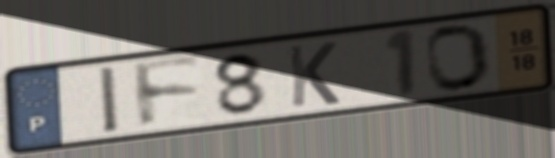1: (381, 26, 417, 103)
8: (212, 50, 273, 118)
F: (129, 54, 206, 133)
I: (96, 63, 123, 137)
K: (285, 39, 343, 110)
O: (423, 21, 495, 94)
